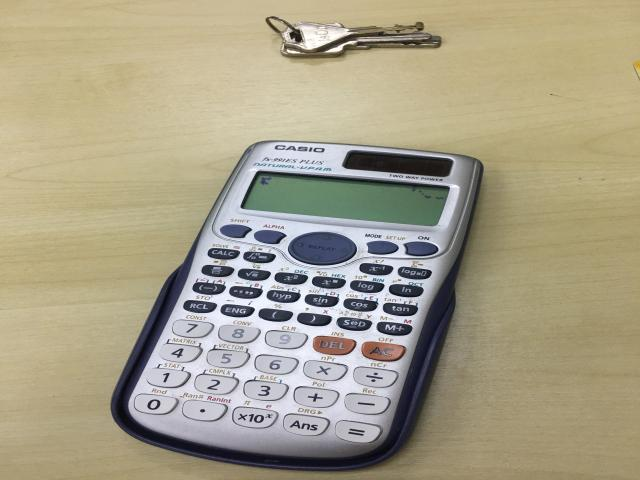Keys: (265, 17, 443, 58)
